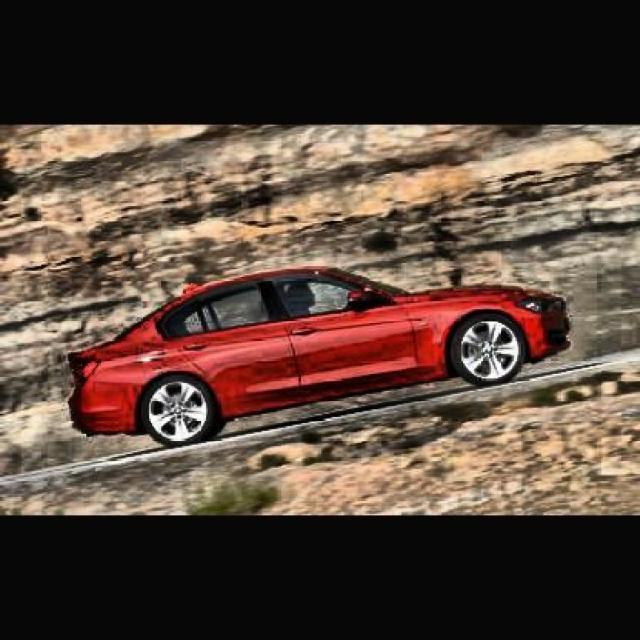red: (72, 259, 570, 434)
